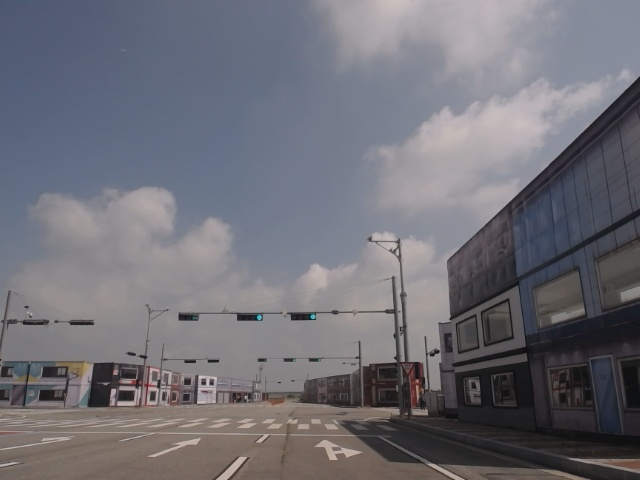straight_green_4: (239, 312, 263, 322), (290, 312, 318, 320)
